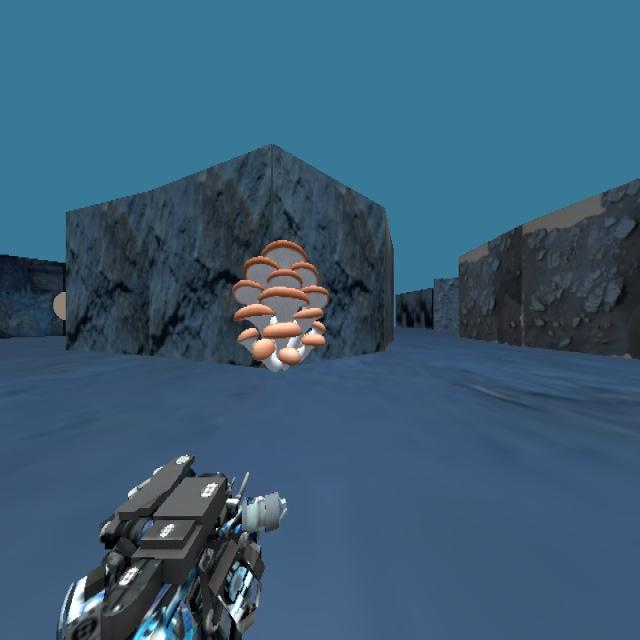Circle: (52, 291, 66, 320)
Mushroom: (231, 237, 329, 371)
